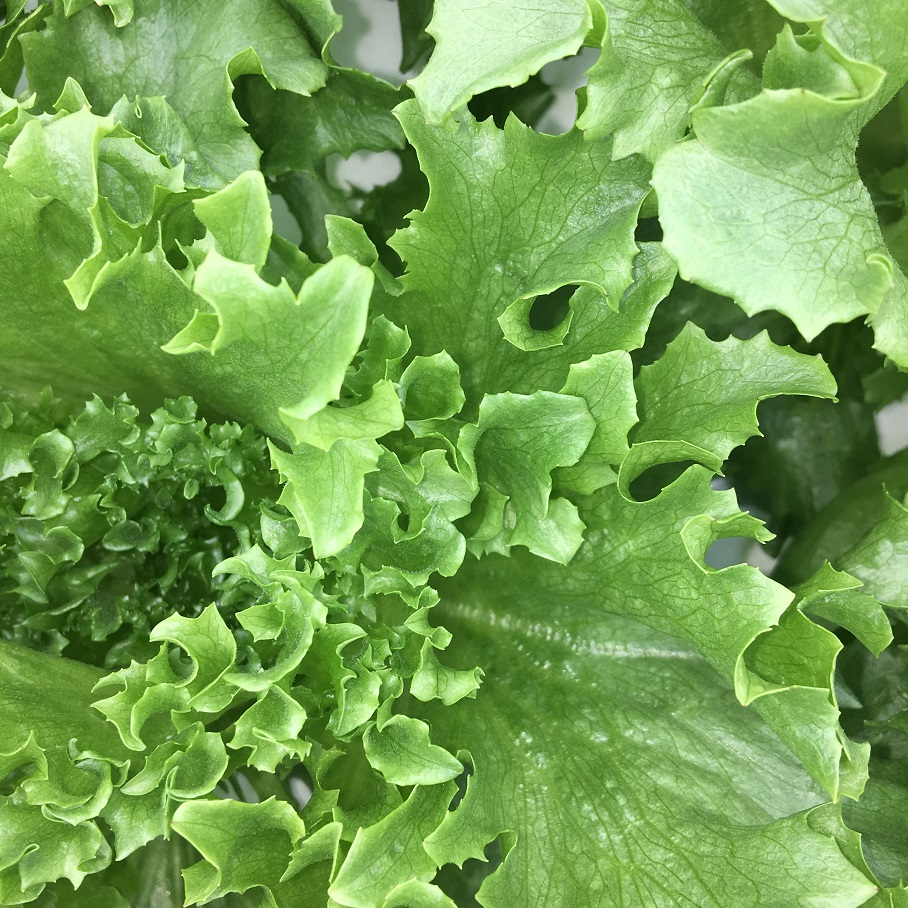tipburn: (706, 507, 733, 533), (395, 69, 423, 94), (597, 277, 616, 302)
